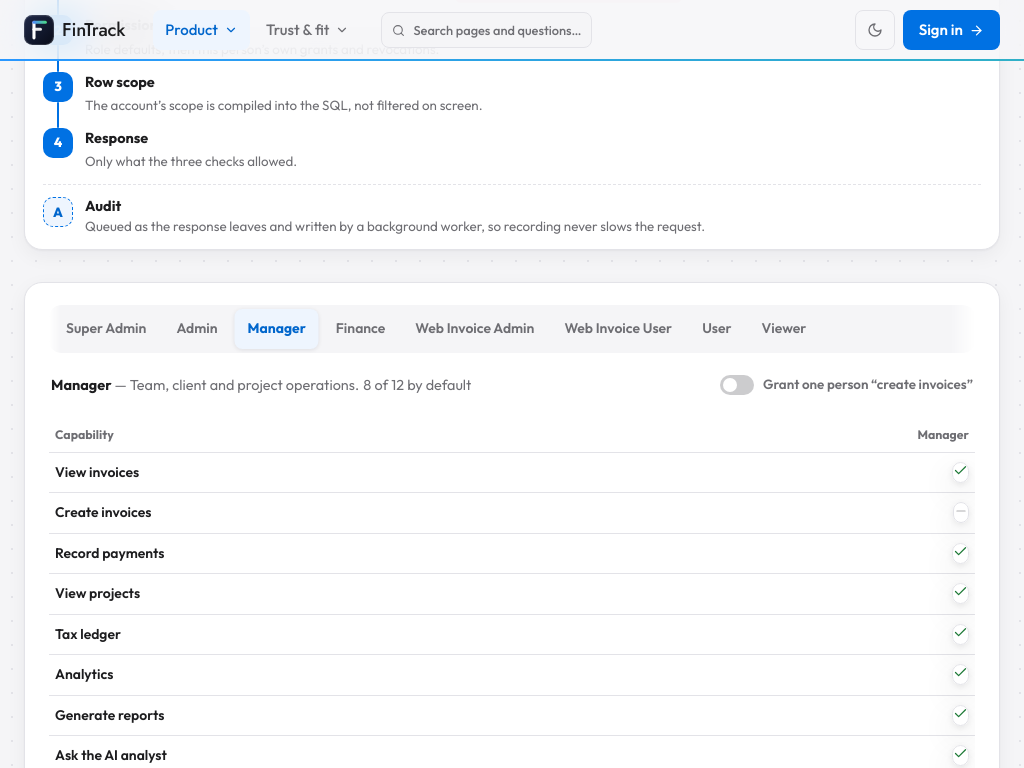
Test: the permission matrix on /security › flips one cell for one person and says so
The image size is (1024, 768).
(page scrolled)
Click the checkbox labelled "Grant one person “create invoices”" at (847, 385), box [720,375,973,395]
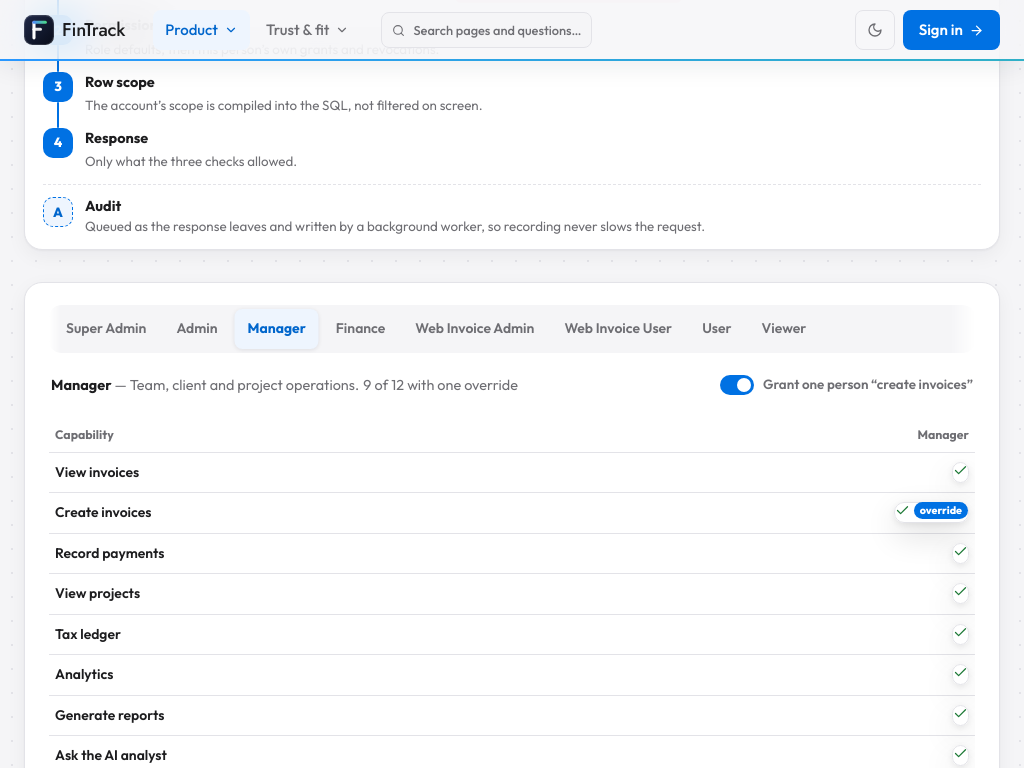
Result: the text "override" is shown at [914,502,968,520]
Result: the text "9 of 12 with one override" is shown at [362,376,518,394]
